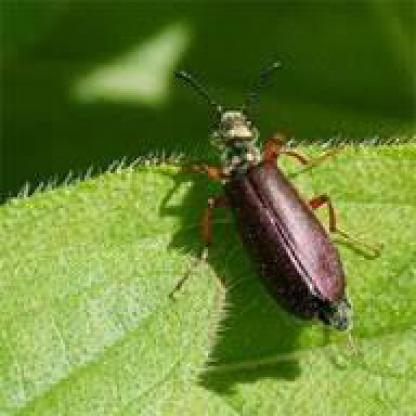blister beetle: (179, 60, 355, 336)
